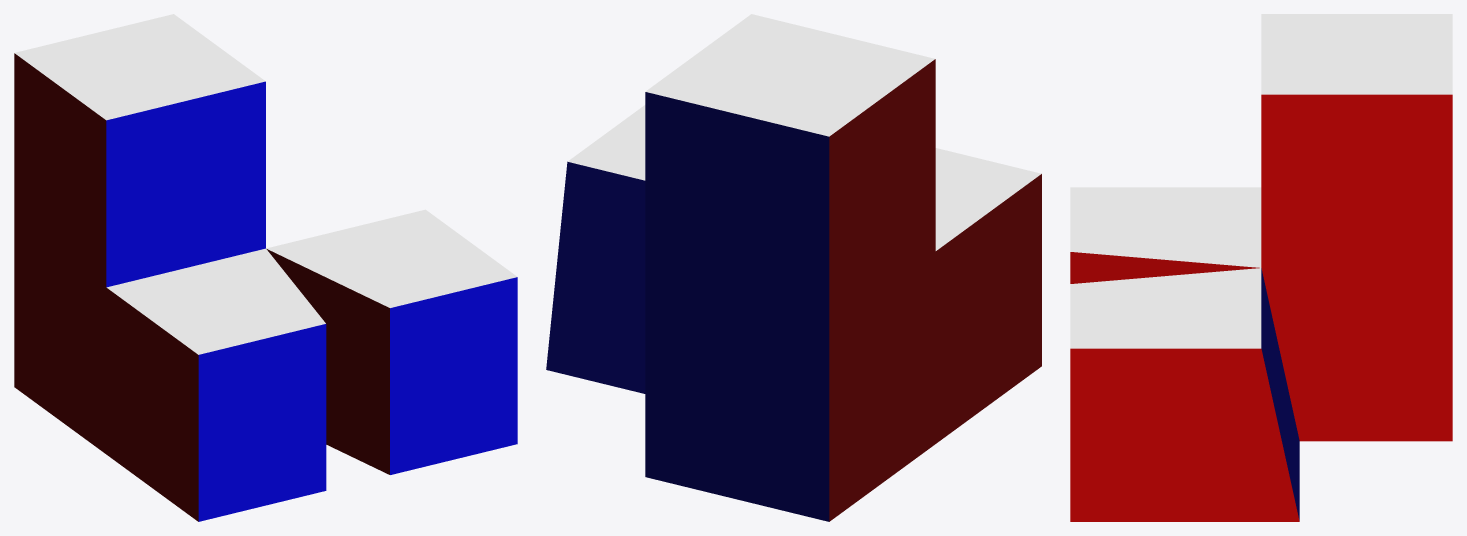
The model's file is labeled_mesh.glb.
3 renders of one model, left to right at view 1: azimuth 30°, elevation 25°; view 2: azimuth 150°, elevation 25°; view 3: azimuth 270°, elevation 25°, orthographic. The views are drawn at different scales.
Size of the model in its own units: 10000 by 10000 by 10000.
1 material, 1 textured.
